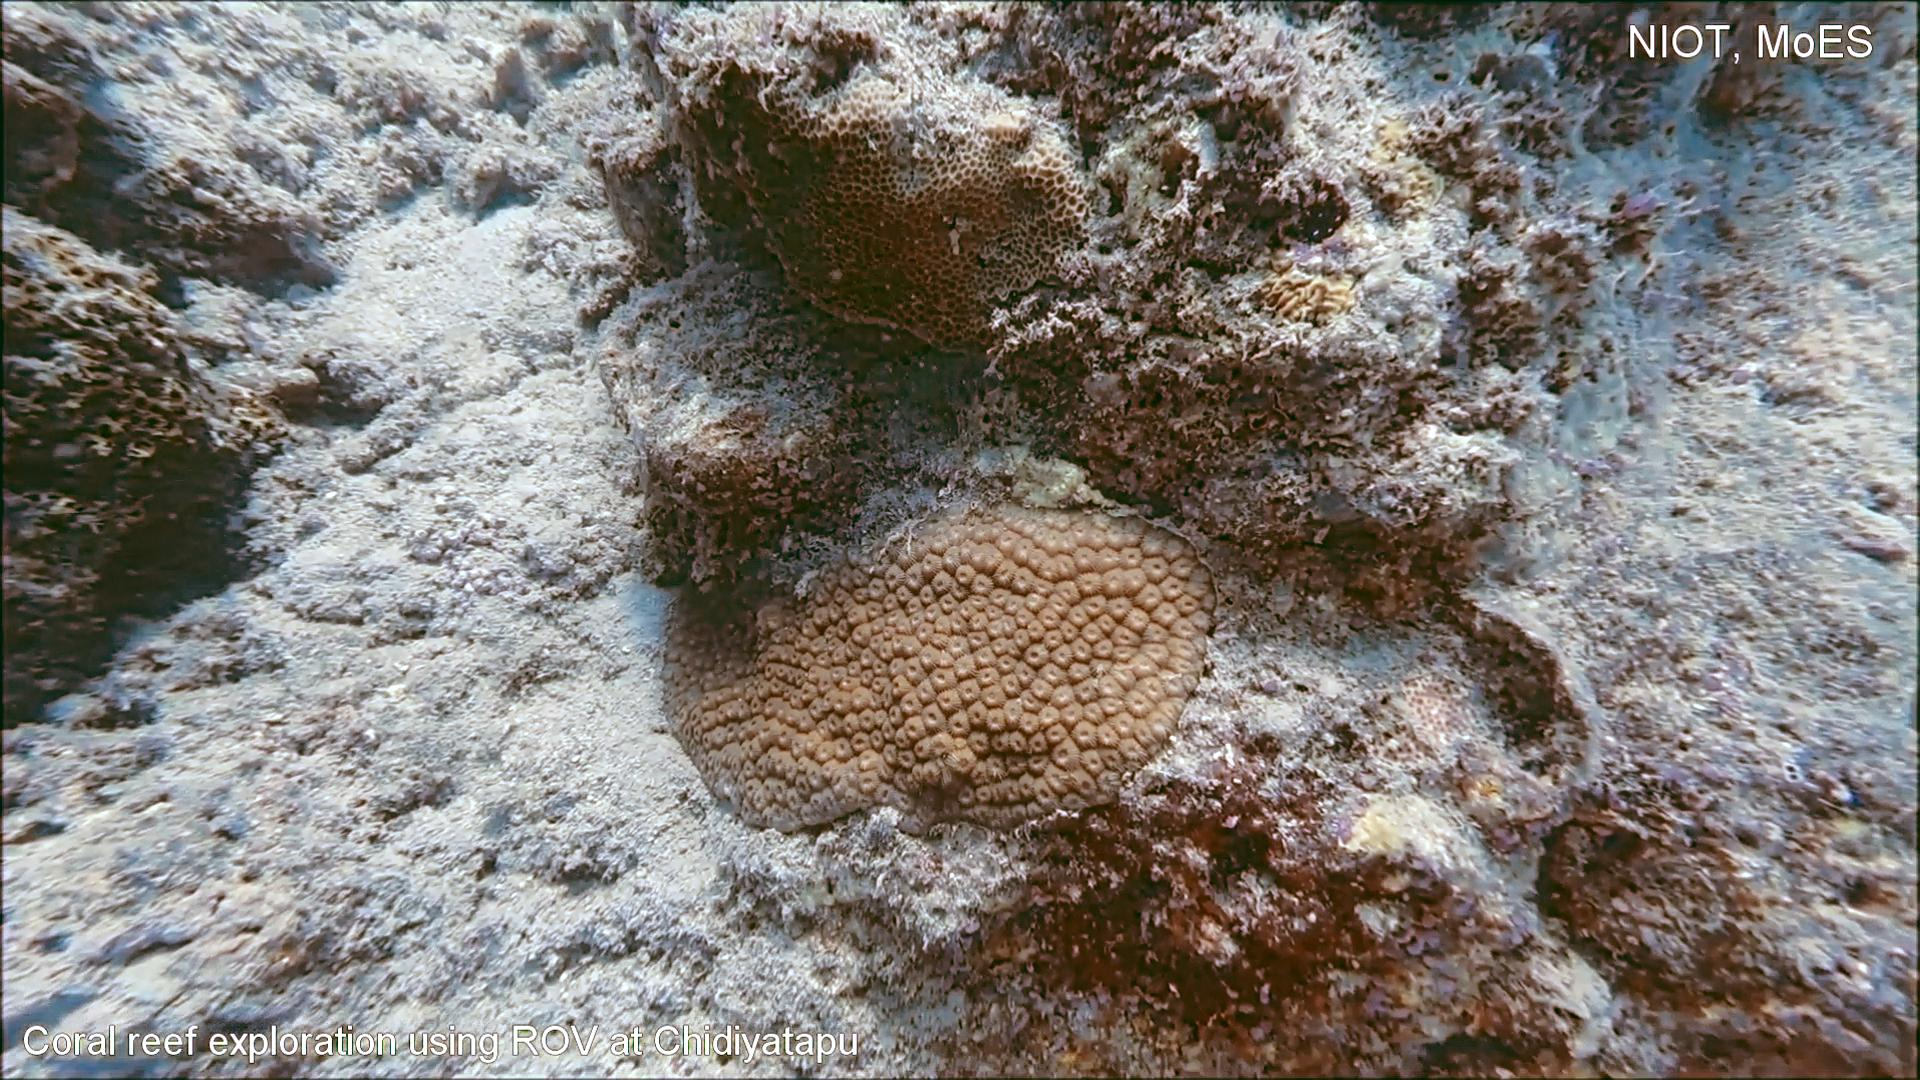Montastraea: (654, 495, 1228, 843)
